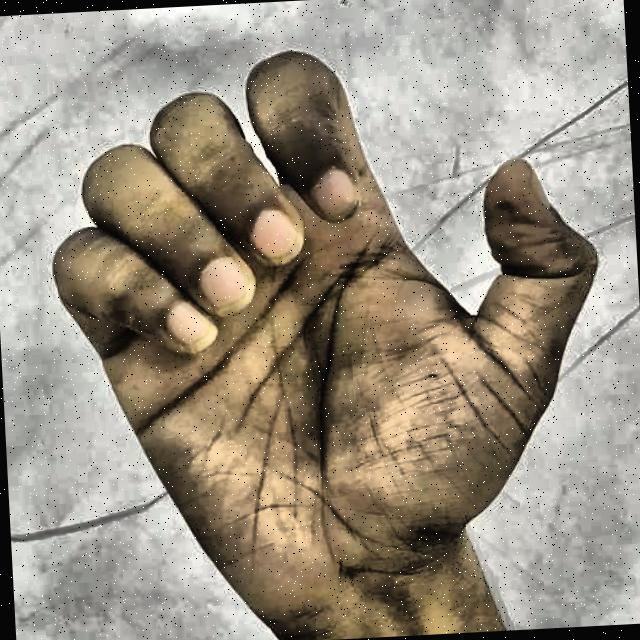Dho: (23, 20, 632, 640)
